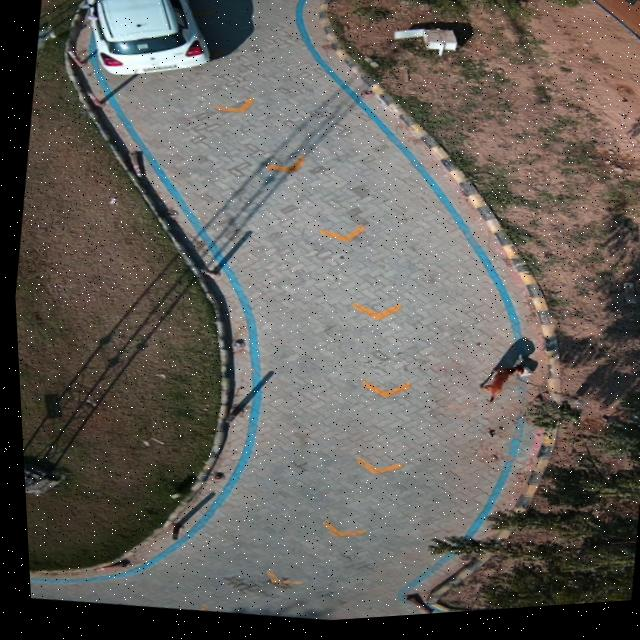car: (86, 0, 210, 77)
